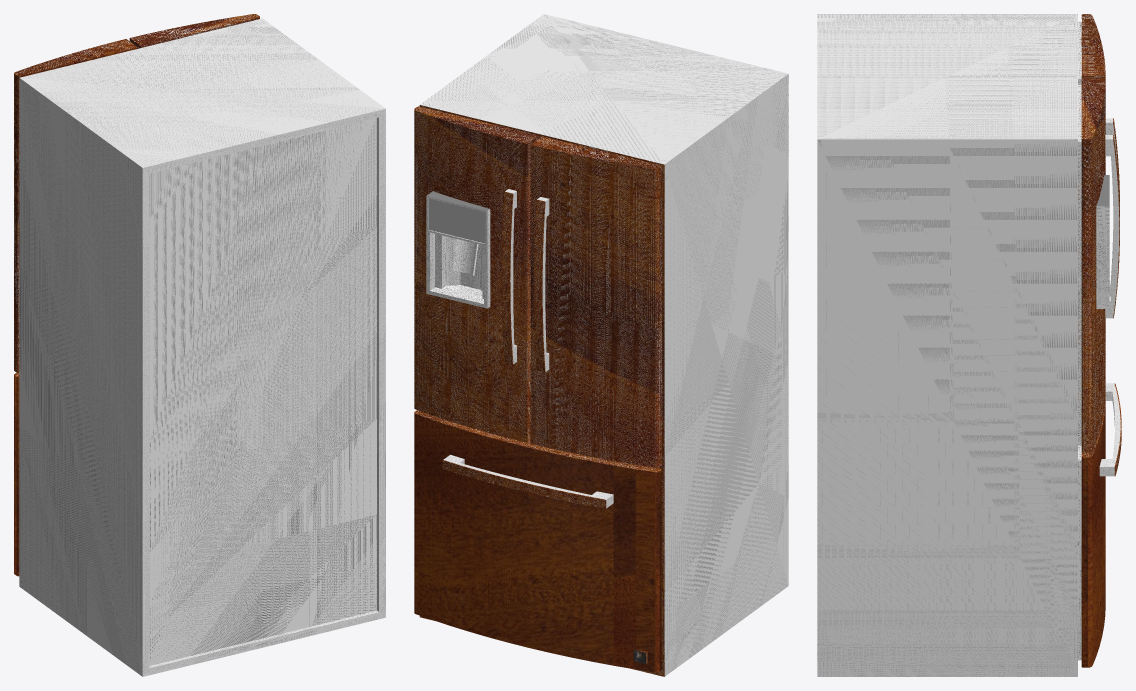
3 renders of one model, left to right at view 1: azimuth 30°, elevation 25°; view 2: azimuth 150°, elevation 25°; view 3: azimuth 270°, elevation 25°, orthographic. The views are drawn at different scales.
Parts seen in each view (by area): view 1: mesh1_mesh1-geometry; view 2: mesh1_mesh1-geometry, mesh2_mesh2-geometry, mesh3_mesh3-geometry; view 3: mesh1_mesh1-geometry.
Part boxes in pixels (x1,y1,x2,y2): mesh1_mesh1-geometry: (14, 14, 385, 676); mesh1_mesh1-geometry: (414, 14, 788, 676); mesh2_mesh2-geometry: (533, 197, 549, 372); mesh3_mesh3-geometry: (452, 239, 478, 275); mesh1_mesh1-geometry: (817, 14, 1121, 676).
Bounding box in the file's own units: 0.4065 × 0.8129 × 0.4171.
